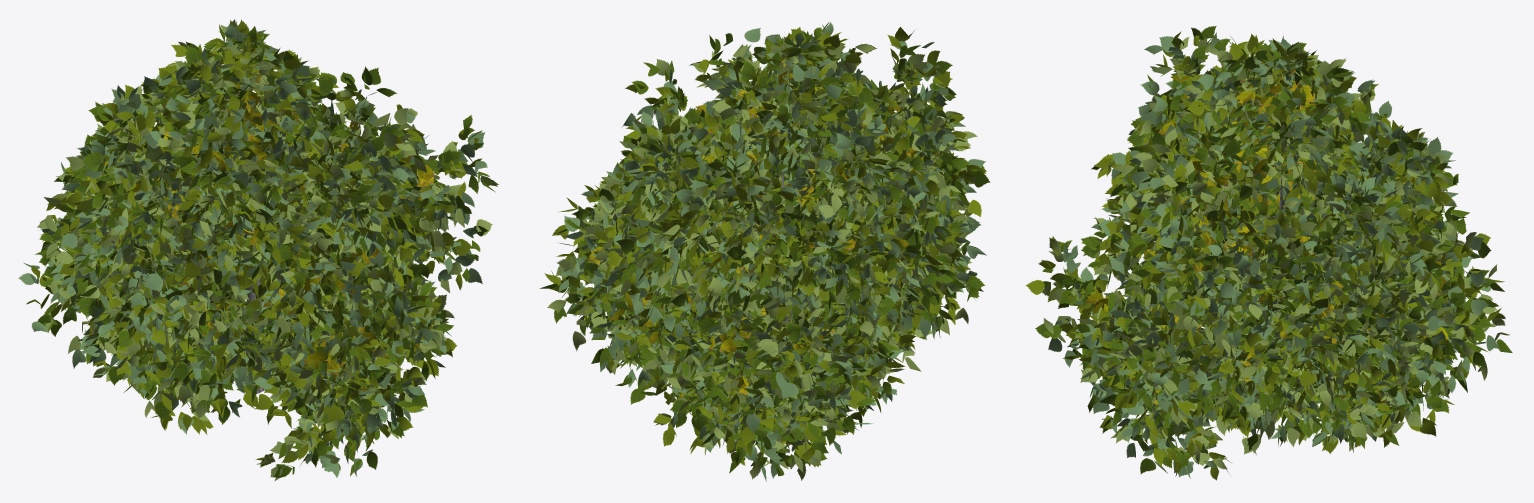
The model's file is bush-realista.glb.
3 renders of one model, left to right at view 1: azimuth 30°, elevation 25°; view 2: azimuth 150°, elevation 25°; view 3: azimuth 270°, elevation 25°, orthographic.
Parts seen in each view (by area): view 1: Bush 3 (smaller)_Leaf_v2_Mat_0, Bush 3 (smaller)_Leaf_v4_Mat_0, Bush 3 (smaller)_Leaf_Mat_0, Bush 3 (smaller)_Leaf_v3_Mat_0, Bush 3 (smaller)_Leaf2_Mat_0; view 2: Bush 3 (smaller)_Leaf_Mat_0, Bush 3 (smaller)_Leaf_v2_Mat_0, Bush 3 (smaller)_Leaf_v3_Mat_0, Bush 3 (smaller)_Leaf_v4_Mat_0, Bush 3 (smaller)_Leaf2_Mat_0; view 3: Bush 3 (smaller)_Leaf_Mat_0, Bush 3 (smaller)_Leaf_v4_Mat_0, Bush 3 (smaller)_Leaf_v2_Mat_0, Bush 3 (smaller)_Leaf_v3_Mat_0, Bush 3 (smaller)_Leaf2_Mat_0.
Part boxes in pixels (x1,y1,x2,y2): Bush 3 (smaller)_Leaf_v2_Mat_0: (31,19,482,470); Bush 3 (smaller)_Leaf_v4_Mat_0: (18,22,487,477); Bush 3 (smaller)_Leaf_Mat_0: (26,20,498,477); Bush 3 (smaller)_Leaf_v3_Mat_0: (37,19,497,480); Bush 3 (smaller)_Leaf2_Mat_0: (87,40,435,431); Bush 3 (smaller)_Leaf_Mat_0: (539,27,990,476); Bush 3 (smaller)_Leaf_v2_Mat_0: (544,26,986,469); Bush 3 (smaller)_Leaf_v3_Mat_0: (547,22,983,480); Bush 3 (smaller)_Leaf_v4_Mat_0: (558,22,986,481); Bush 3 (smaller)_Leaf2_Mat_0: (584,59,946,444); Bush 3 (smaller)_Leaf_Mat_0: (1035,26,1512,476); Bush 3 (smaller)_Leaf_v4_Mat_0: (1042,31,1498,478); Bush 3 (smaller)_Leaf_v2_Mat_0: (1025,31,1505,480); Bush 3 (smaller)_Leaf_v3_Mat_0: (1042,36,1509,473); Bush 3 (smaller)_Leaf2_Mat_0: (1085,62,1455,445).
Bounding box in the file's own units: 1.47 × 1.5 × 1.56.
6 materials, 6 textured.
